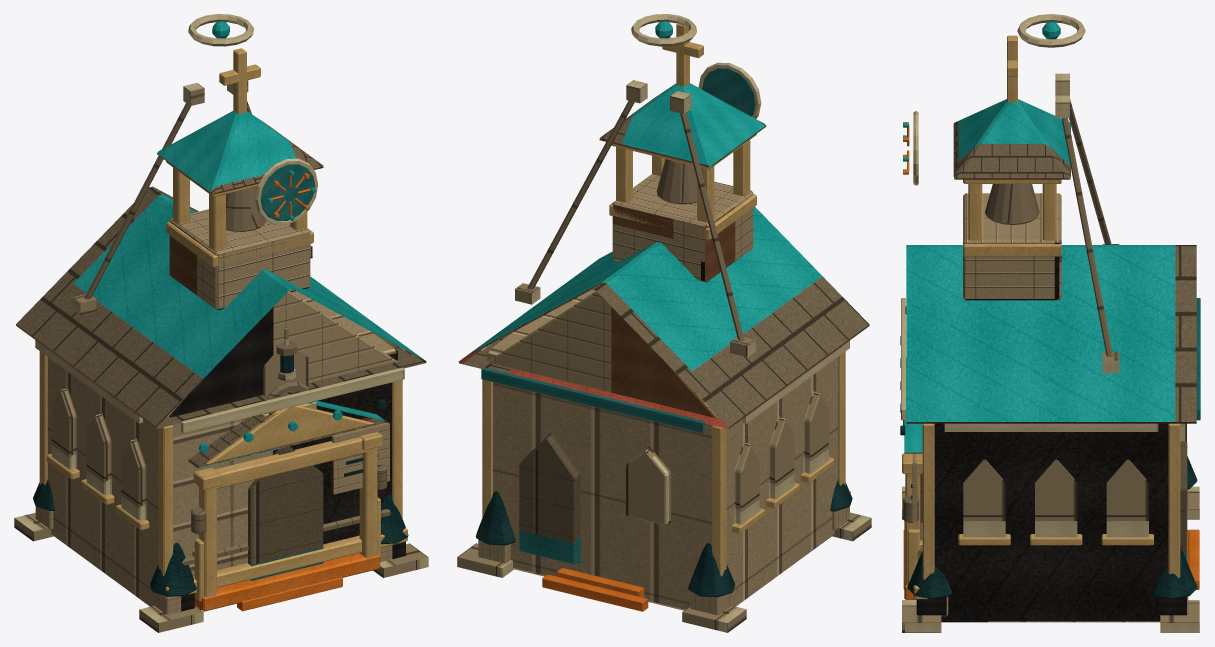
The model's file is chapel.e6.glb.
3 views of the same model, side by side, from view 1: azimuth 30°, elevation 25°; view 2: azimuth 150°, elevation 25°; view 3: azimuth 270°, elevation 25° (orthographic). The views are drawn at different scales.
Visible parts, largest first — view 1: RadiantChapelE6; view 2: RadiantChapelE6; view 3: RadiantChapelE6.
Boxes of the visible parts, box(x1,y1,x2,y2) form: RadiantChapelE6: box(14, 14, 428, 632); RadiantChapelE6: box(457, 14, 871, 632); RadiantChapelE6: box(900, 14, 1200, 632).
Size of the model in its own units: 3.46 by 6.43 by 3.23.
1 material, 1 textured.
